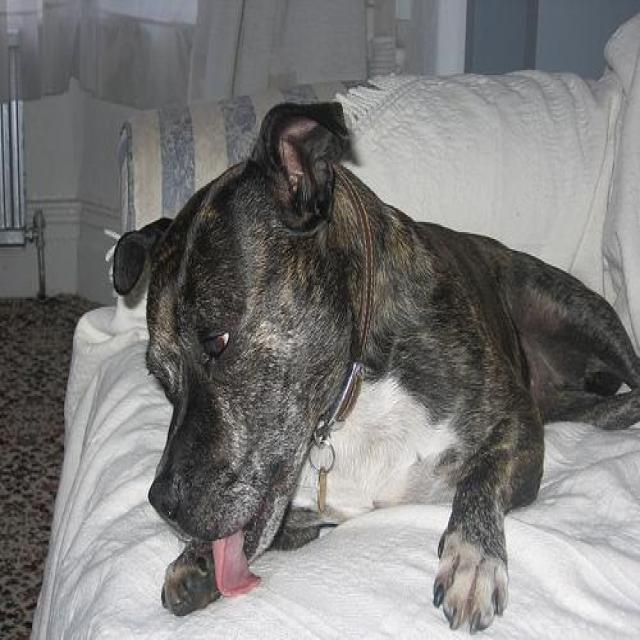staffordshire_bullterrier: (111, 100, 639, 636)
